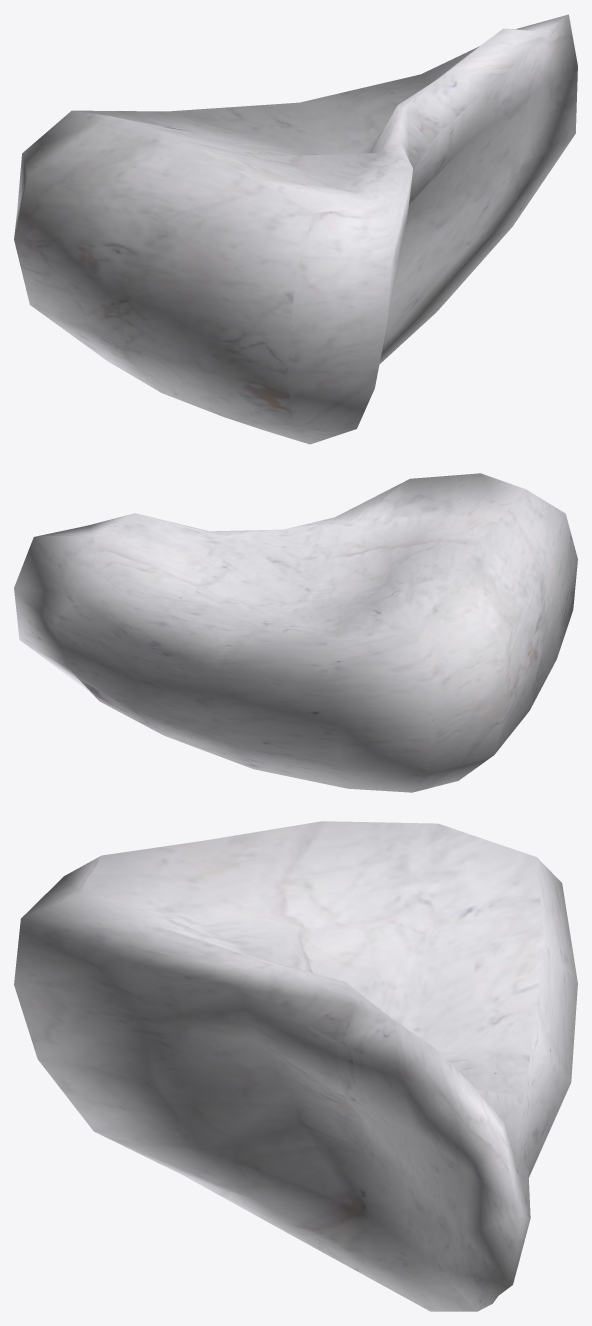
Rendered from peb2.obj.
3 renders of one model, top to bottom at view 1: azimuth 30°, elevation 25°; view 2: azimuth 150°, elevation 25°; view 3: azimuth 270°, elevation 25°, orthographic. The views are drawn at different scales.
Visible parts, largest first — view 1: Cube.001_Cube.002; view 2: Cube.001_Cube.002; view 3: Cube.001_Cube.002.
Part boxes in pixels (x1,y1,x2,y2): Cube.001_Cube.002: [14, 14, 577, 444]; Cube.001_Cube.002: [14, 473, 577, 792]; Cube.001_Cube.002: [14, 821, 577, 1311].
Size of the model in its own units: 1.29 by 0.6507 by 0.9465.
1 material, 1 textured.
